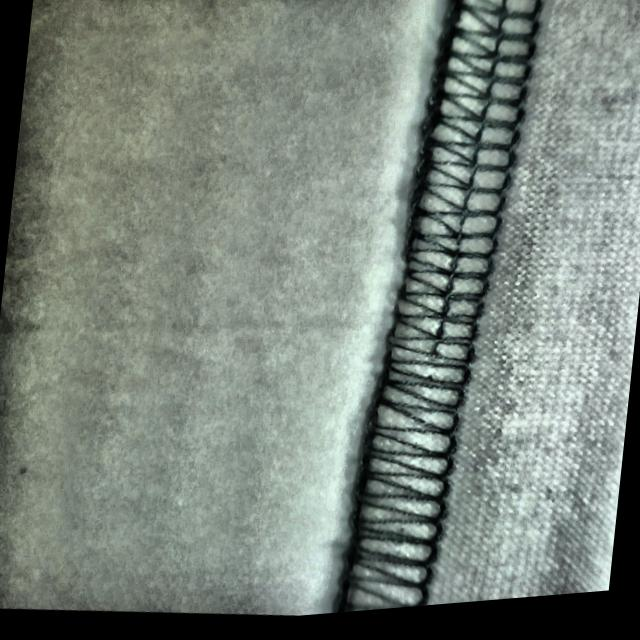Stitch: (348, 114, 522, 560)
